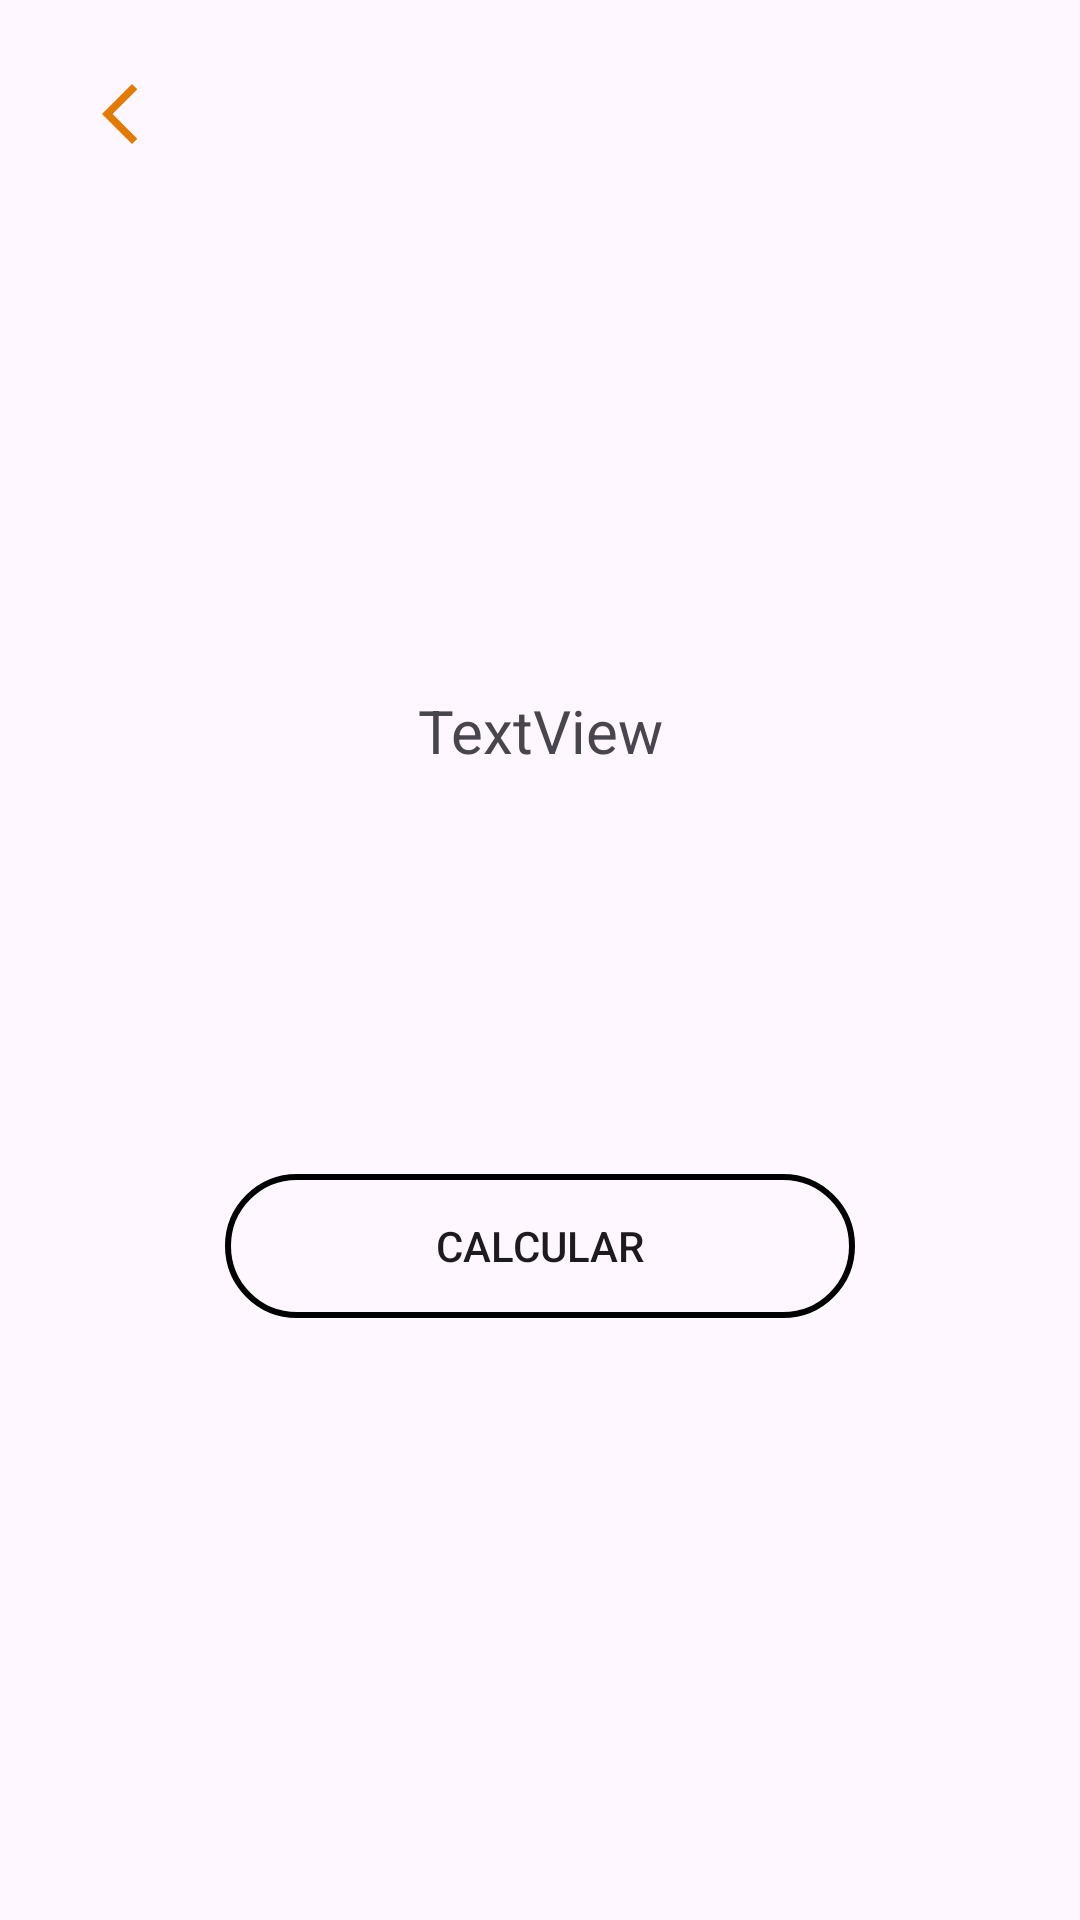

Screen size 1080*1920. Icon name, then its center in pixels as (x=x, y=y):
arrow back: (x=119, y=114)
